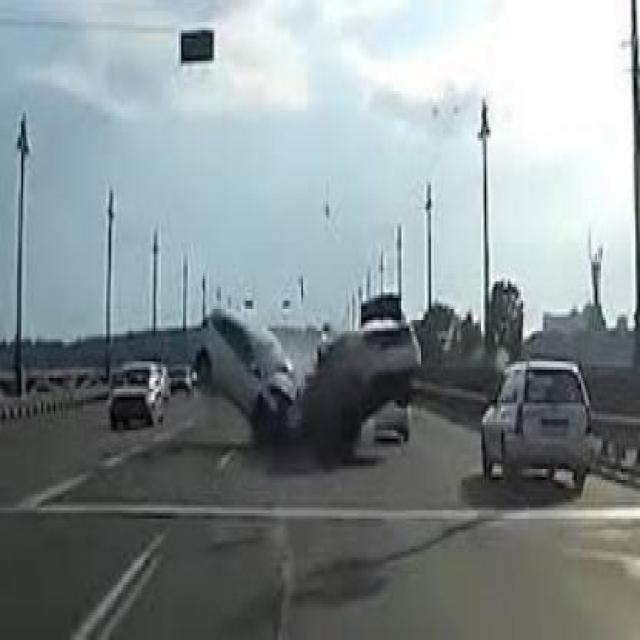accident: (189, 281, 426, 472)
